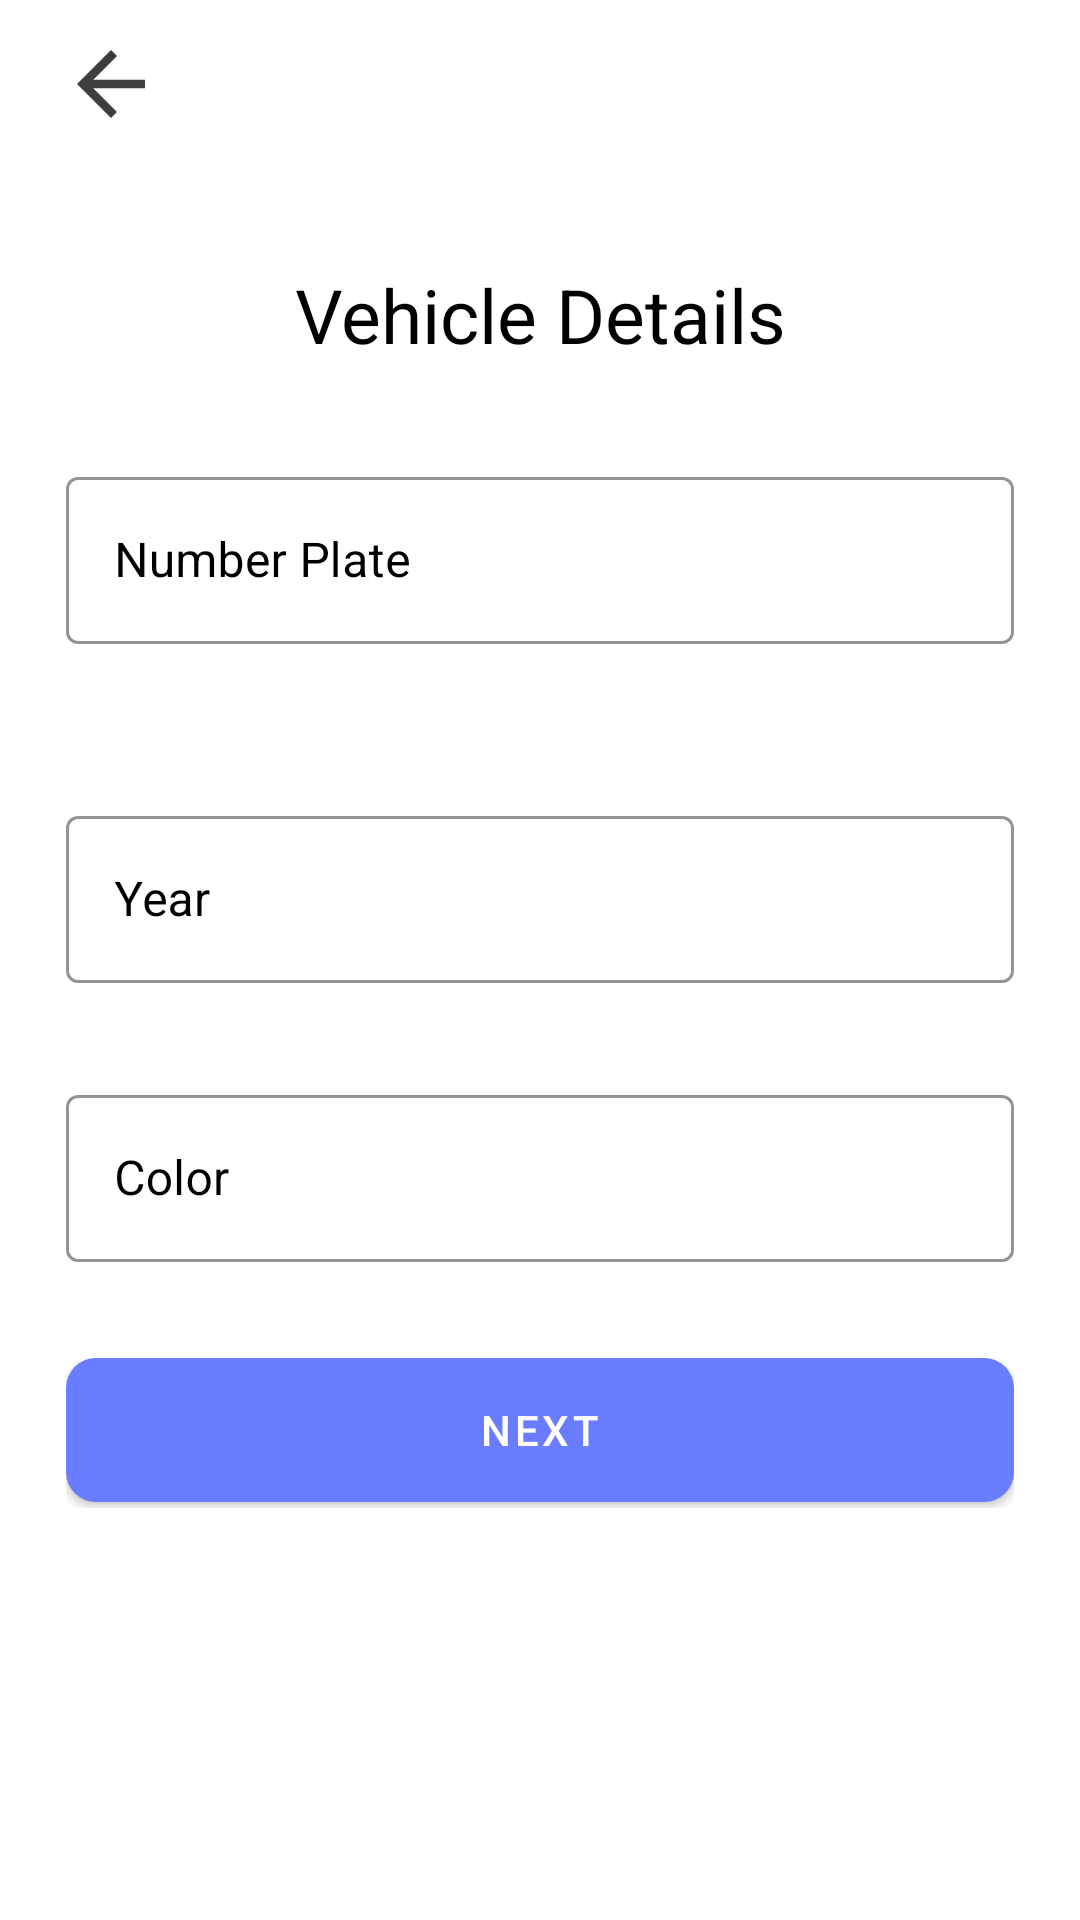

Icon click points for this 1080px x 1920px phone screenshot, format point (x, y):
arrow back: point (111, 84)
